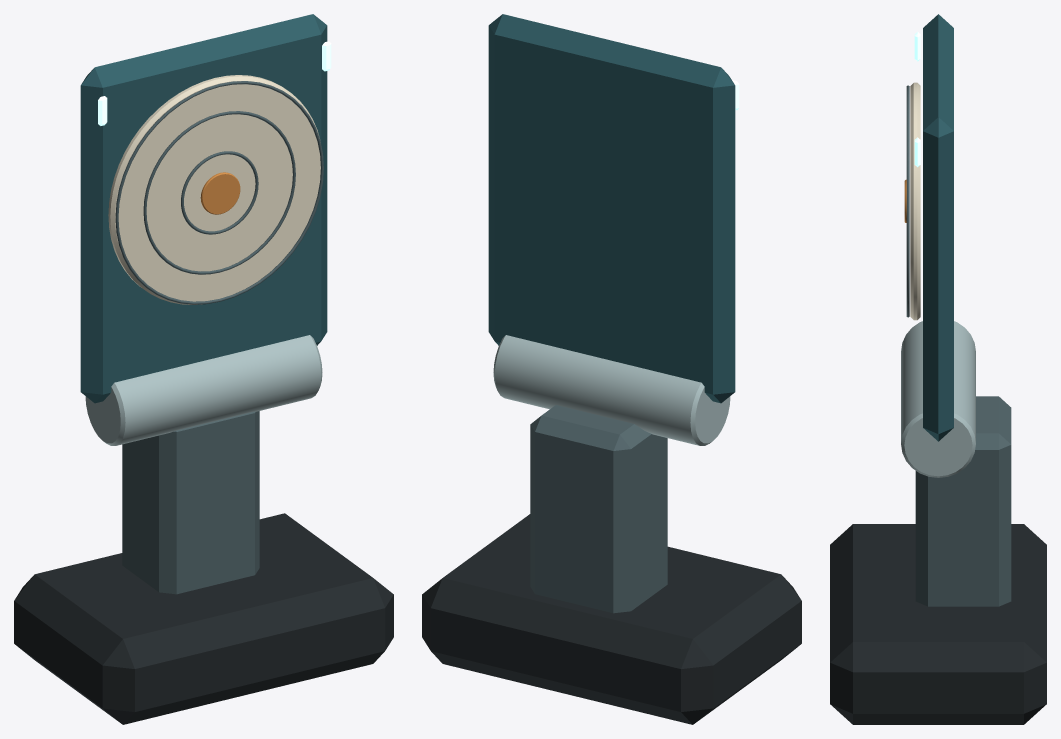
The model's file is club-shooting-target.high.glb.
3 renders of one model, left to right at view 1: azimuth 30°, elevation 25°; view 2: azimuth 150°, elevation 25°; view 3: azimuth 270°, elevation 25°, orthographic. The views are drawn at different scales.
Parts seen in each view (by area): view 1: geometry:body:6, geometry:plate:5, geometry:plate:1, geometry:body:0, geometry:body:2, geometry:plate:0, geometry:plate:3; view 2: geometry:plate:5, geometry:body:6, geometry:body:0, geometry:body:2; view 3: geometry:body:6, geometry:body:0, geometry:plate:5, geometry:body:2, geometry:plate:1, geometry:plate:0, geometry:plate:4.
Boxes of the visible parts, x1=… form: geometry:body:6: x1=14, y1=513, x2=393, y2=724; geometry:plate:5: x1=80, y1=14, x2=327, y2=403; geometry:plate:1: x1=108, y1=75, x2=320, y2=304; geometry:body:0: x1=122, y1=411, x2=259, y2=594; geometry:body:2: x1=85, y1=335, x2=322, y2=445; geometry:plate:0: x1=115, y1=81, x2=323, y2=304; geometry:plate:3: x1=200, y1=172, x2=240, y2=214; geometry:plate:5: x1=488, y1=14, x2=735, y2=403; geometry:body:6: x1=422, y1=514, x2=801, y2=724; geometry:body:0: x1=530, y1=405, x2=667, y2=613; geometry:body:2: x1=493, y1=335, x2=730, y2=445; geometry:body:6: x1=830, y1=524, x2=1046, y2=724; geometry:body:0: x1=915, y1=396, x2=1011, y2=606; geometry:plate:5: x1=923, y1=14, x2=953, y2=441; geometry:body:2: x1=901, y1=321, x2=975, y2=477; geometry:plate:1: x1=910, y1=82, x2=920, y2=320; geometry:plate:0: x1=906, y1=85, x2=909, y2=317; geometry:plate:4: x1=914, y1=31, x2=920, y2=167.
Size of the model in its own units: 0.78 by 1.59 by 0.52.
